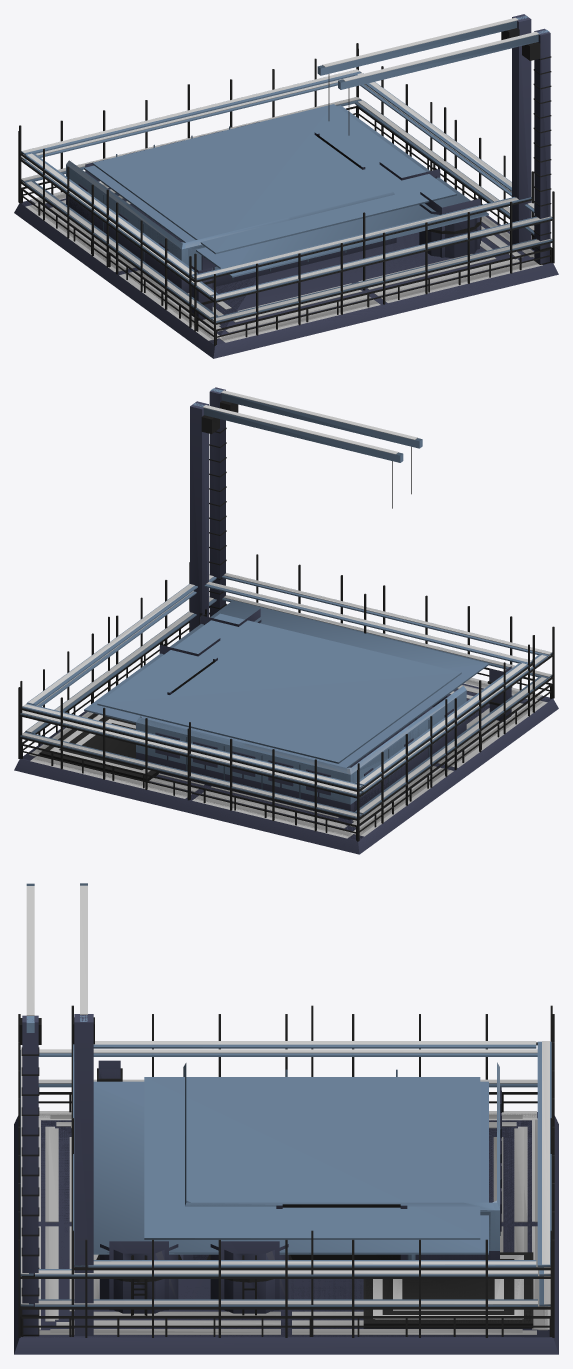
Rendered from veyran_construction_center_scaffolding.glb.
The picture shows the model from 3 angles, top to bottom: view 1: azimuth 30°, elevation 25°; view 2: azimuth 150°, elevation 25°; view 3: azimuth 270°, elevation 25°; orthographic projection. The views are drawn at different scales.
Parts seen in each view (by area): view 1: body (×3); view 2: body (×3); view 3: body (×3).
Part boxes in pixels (box(x1,y1,x2,y2)): body (×3): box(14, 14, 558, 358); body (×3): box(14, 387, 558, 854); body (×3): box(14, 883, 558, 1354).
Bounding box in the file's own units: 14.8 × 9.87 × 14.8.
